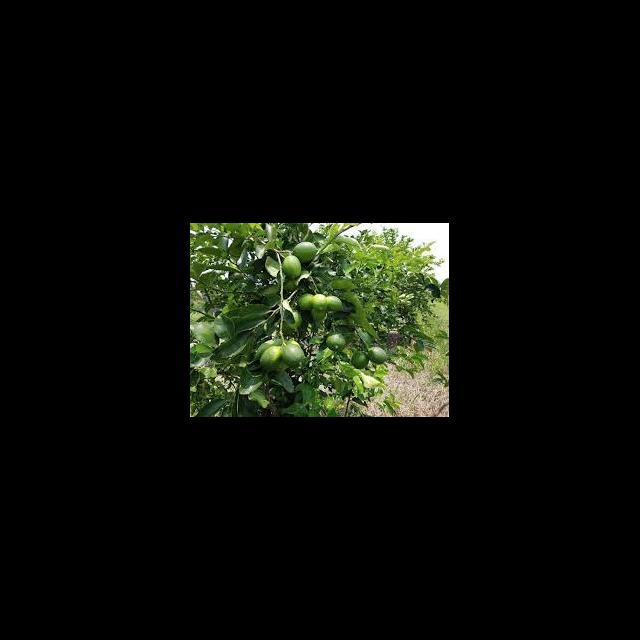lime: (292, 242, 320, 269), (282, 254, 304, 282), (326, 332, 348, 354), (368, 347, 392, 365)
